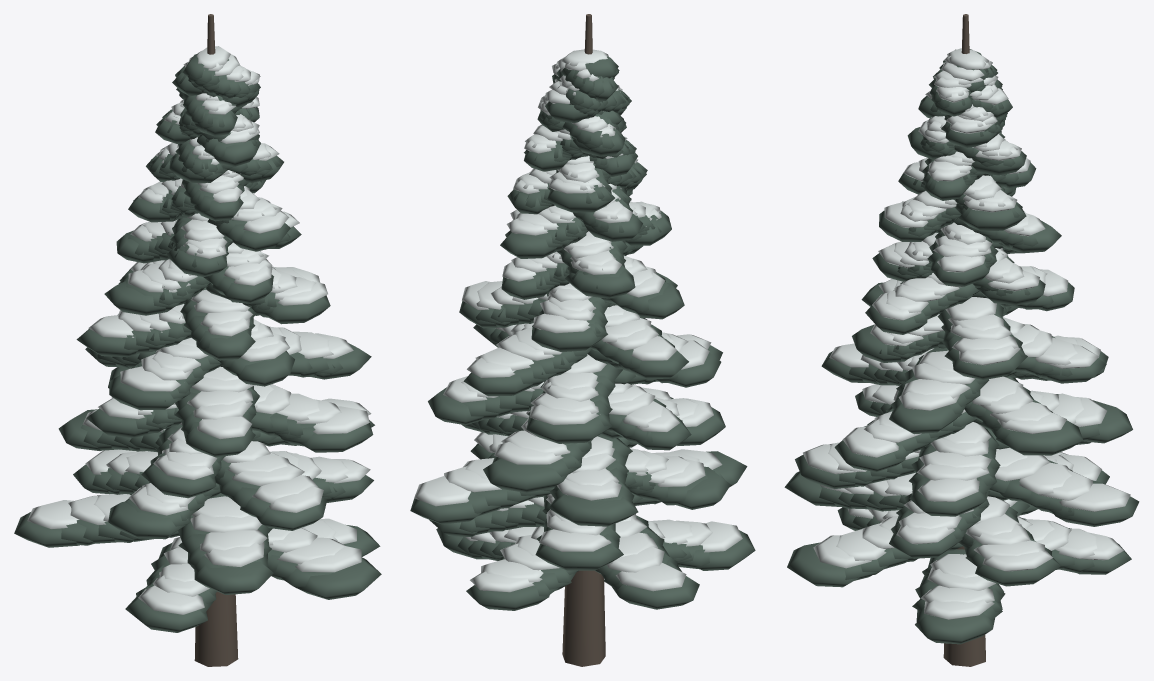
Rendered from SnowPine4.glb.
3 views of the same model, side by side, from view 1: azimuth 30°, elevation 25°; view 2: azimuth 150°, elevation 25°; view 3: azimuth 270°, elevation 25° (orthographic).
Size of the model in its own units: 1.74 by 3.5 by 1.76.
